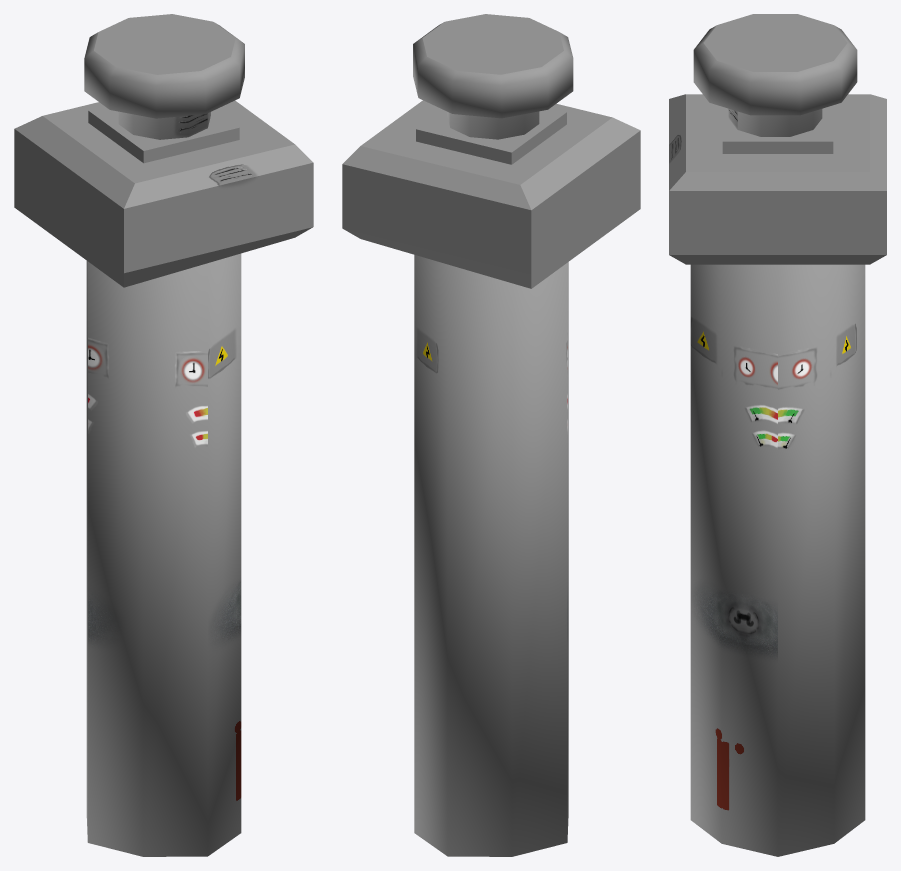
Rendered from Robot Arm.fbx.
The picture shows the model from 3 angles, left to right: view 1: azimuth 30°, elevation 25°; view 2: azimuth 150°, elevation 25°; view 3: azimuth 270°, elevation 25°; orthographic projection.
Visible parts, largest first — view 1: Plane; view 2: Plane; view 3: Plane.
Boxes of the visible parts, x1,y1,x2,y2 form: Plane: [14, 14, 313, 856]; Plane: [342, 14, 640, 856]; Plane: [669, 14, 886, 856].
Bounding box in the file's own units: 27.66 × 109 × 27.66.
